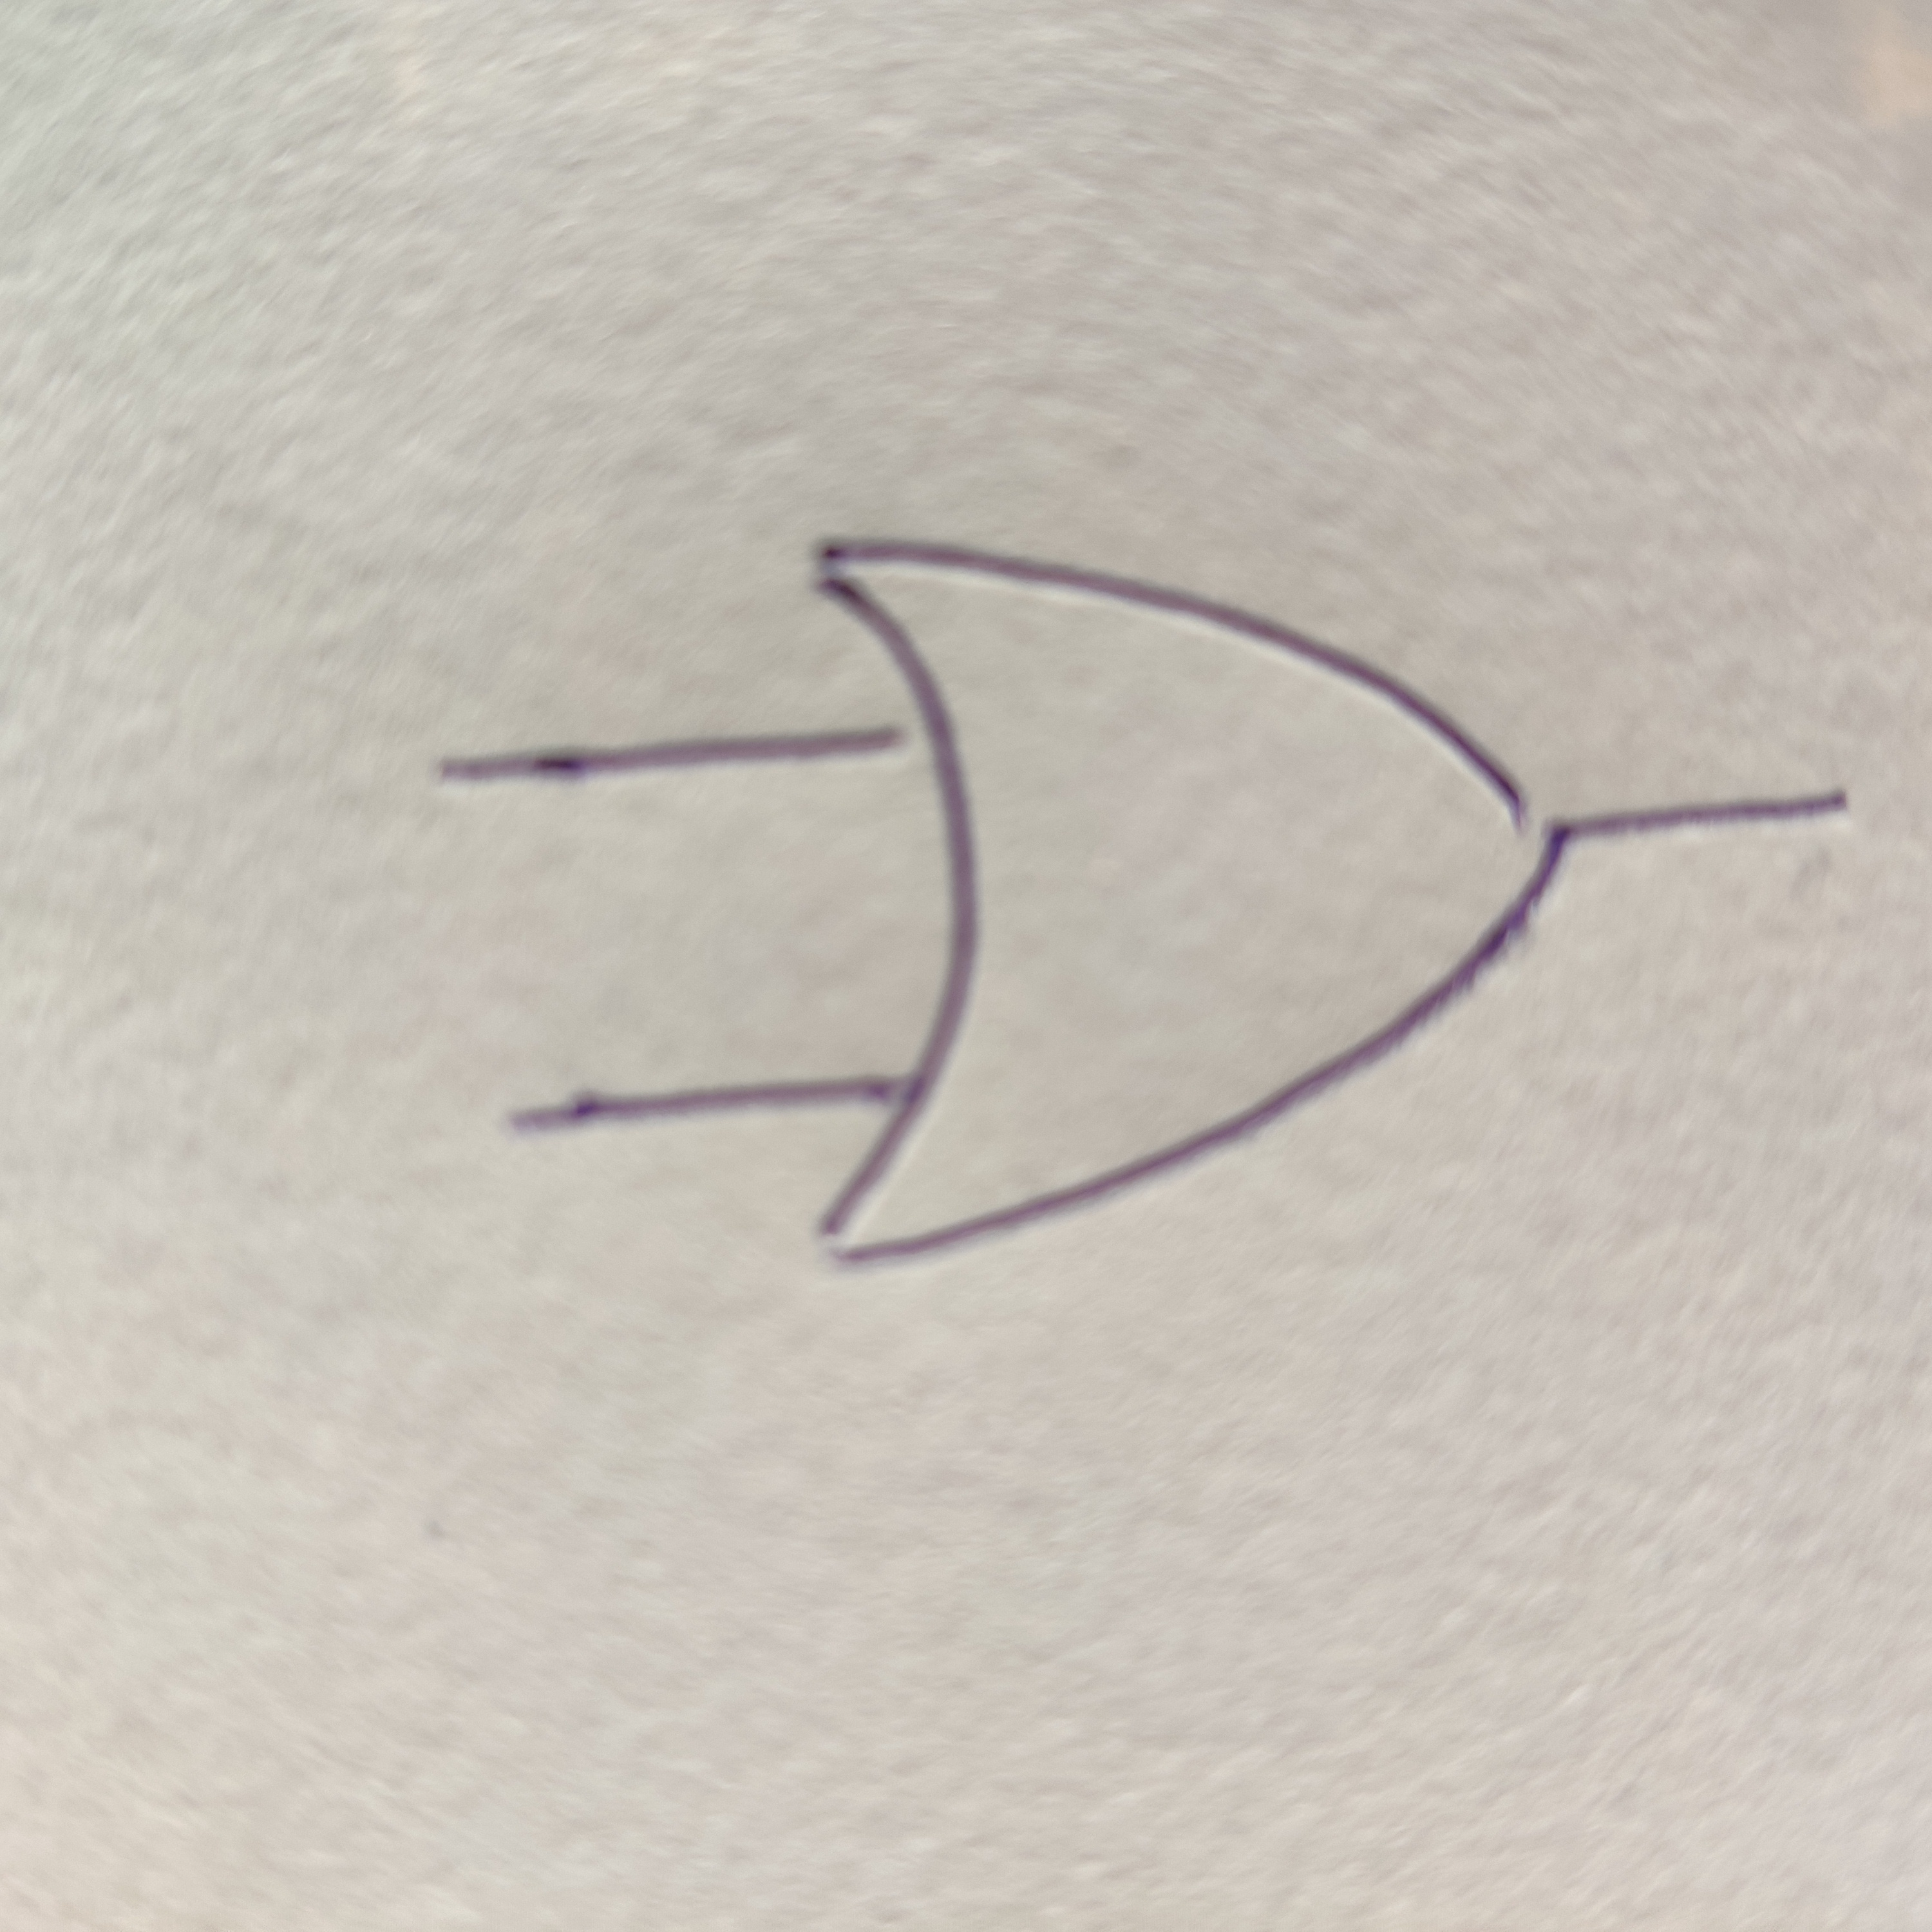or: (814, 534, 1568, 1269)
